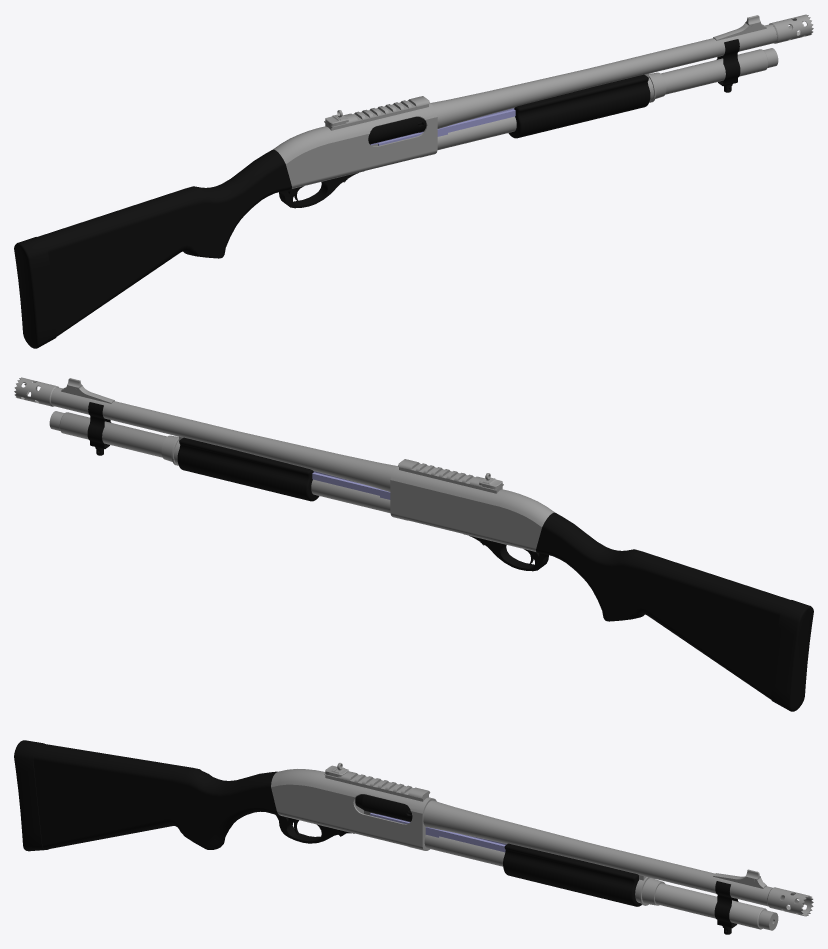
Rendered from 1-Remington870.obj.
The picture shows the model from 3 angles, top to bottom: view 1: azimuth 30°, elevation 25°; view 2: azimuth 150°, elevation 25°; view 3: azimuth 330°, elevation 25°; orthographic projection.
Visible parts, largest first — view 1: Stock, Reciever.Barrel, Fore.End.Assembly, Breech.Bolt, Fore.End.Tube.Assembly; view 2: Stock, Reciever.Barrel, Fore.End.Assembly, Fore.End.Tube.Assembly; view 3: Stock, Reciever.Barrel, Fore.End.Assembly, Breech.Bolt, Fore.End.Tube.Assembly.
Part boxes in pixels (left/top/right/bottom): Stock: left=14, top=39, right=740, bottom=348; Reciever.Barrel: left=273, top=14, right=813, bottom=188; Fore.End.Assembly: left=508, top=74, right=650, bottom=138; Breech.Bolt: left=368, top=117, right=426, bottom=144; Fore.End.Tube.Assembly: left=370, top=108, right=515, bottom=145; Stock: left=87, top=402, right=813, bottom=711; Reciever.Barrel: left=14, top=377, right=554, bottom=551; Fore.End.Assembly: left=177, top=437, right=319, bottom=501; Fore.End.Tube.Assembly: left=312, top=471, right=390, bottom=499; Stock: left=14, top=740, right=738, bottom=934; Reciever.Barrel: left=271, top=763, right=813, bottom=930; Fore.End.Assembly: left=503, top=843, right=641, bottom=906; Breech.Bolt: left=355, top=794, right=412, bottom=821; Fore.End.Tube.Assembly: left=370, top=813, right=506, bottom=852.
Size of the model in its own units: 10.61 by 2.08 by 0.4236.
